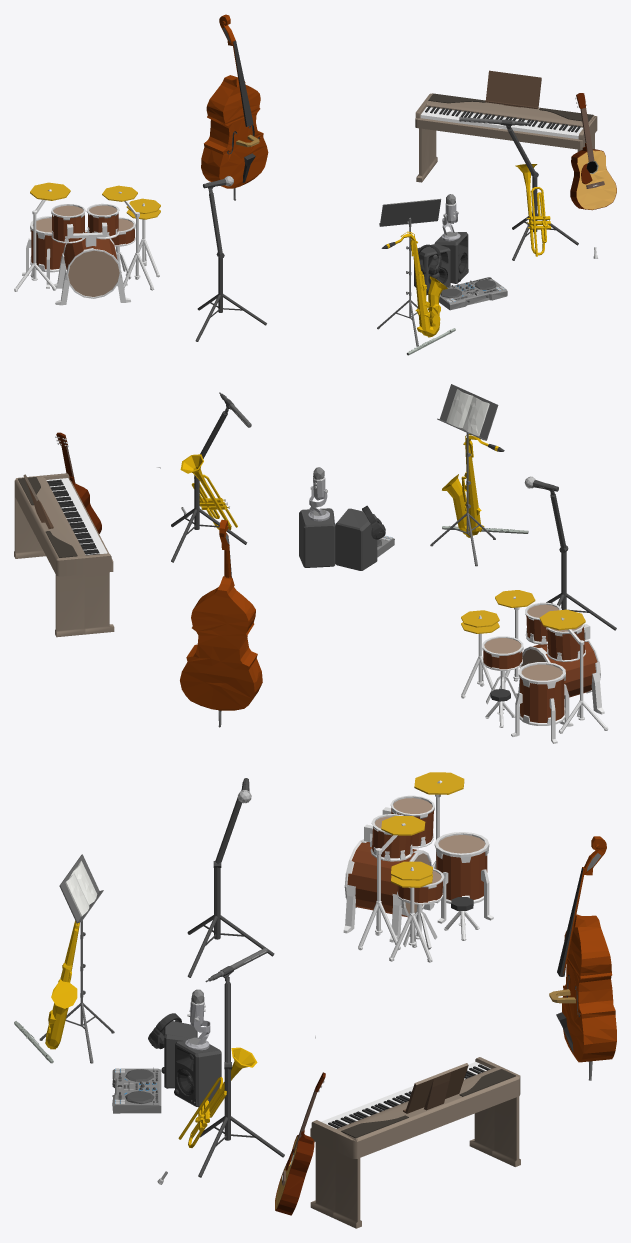
3 renders of one model, top to bottom at view 1: azimuth 30°, elevation 25°; view 2: azimuth 150°, elevation 25°; view 3: azimuth 270°, elevation 25°, orthographic. The views are drawn at different scales.
Parts seen in each view (by area): view 1: Cube.011, Cylinder.007, Cylinder, Cube.007, Cylinder.031, Cylinder.003, Cube.018, Cylinder.032, Cylinder.002, Cube.014, Cube, Cube.006 (+9 smaller); view 2: Cube.011, Cylinder.007, Cylinder.003, Cube, Cube.006, Cylinder.031, Cylinder, Cylinder.004, Cylinder.032, Cube.020, Cube.013, Cylinder.002 (+9 smaller); view 3: Cube.011, Cylinder.007, Cylinder.003, Cylinder, Cube.006, Cylinder.031, Cube.007, Cylinder.032, Cube.014, Cylinder.004, Cylinder.002, Cube (+13 smaller).
Boxes of the visible parts, left/top/right/bottom form: Cube.011: left=415, top=70, right=597, bottom=182; Cylinder.007: left=201, top=14, right=268, bottom=200; Cylinder: left=63, top=229, right=120, bottom=298; Cube.007: left=570, top=143, right=616, bottom=210; Cylinder.031: left=381, top=231, right=447, bottom=337; Cylinder.003: left=22, top=216, right=66, bottom=288; Cube.018: left=379, top=198, right=441, bottom=226; Cylinder.032: left=515, top=164, right=597, bottom=258; Cylinder.002: left=51, top=204, right=85, bottom=243; Cube.014: left=439, top=277, right=507, bottom=310; Cube: left=414, top=244, right=450, bottom=295; Cube.006: left=434, top=232, right=468, bottom=283; Cube.011: left=14, top=473, right=114, bottom=637; Cylinder.007: left=180, top=519, right=262, bottom=727; Cylinder.003: left=511, top=662, right=573, bottom=743; Cube: left=335, top=508, right=377, bottom=570; Cube.006: left=299, top=508, right=335, bottom=567; Cylinder.031: left=442, top=434, right=504, bottom=537; Cylinder: left=519, top=639, right=600, bottom=698; Cylinder.004: left=482, top=636, right=523, bottom=710; Cylinder.032: left=180, top=454, right=237, bottom=531; Cube.020: left=446, top=389, right=489, bottom=436; Cube.013: left=47, top=479, right=99, bottom=555; Cylinder.002: left=546, top=623, right=585, bottom=661; Cube.011: left=310, top=1057, right=520, bottom=1228; Cylinder.007: left=549, top=836, right=616, bottom=1080; Cylinder.003: left=434, top=832, right=493, bottom=923; Cylinder: left=344, top=839, right=431, bottom=917; Cube.006: left=174, top=1041, right=221, bottom=1107; Cylinder.031: left=45, top=920, right=79, bottom=1049; Cube.007: left=275, top=1130, right=314, bottom=1215; Cylinder.032: left=157, top=1047, right=257, bottom=1184; Cube.014: left=112, top=1068, right=161, bottom=1113; Cylinder.004: left=397, top=868, right=444, bottom=949; Cylinder.002: left=390, top=795, right=434, bottom=848; Cube: left=161, top=1021, right=197, bottom=1088.
Size of the model in its own units: 6.59 by 2.11 by 4.81.
